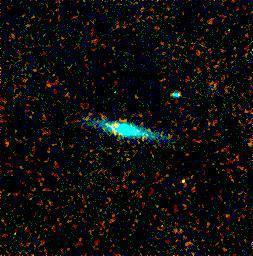star: (101, 108, 131, 138)
